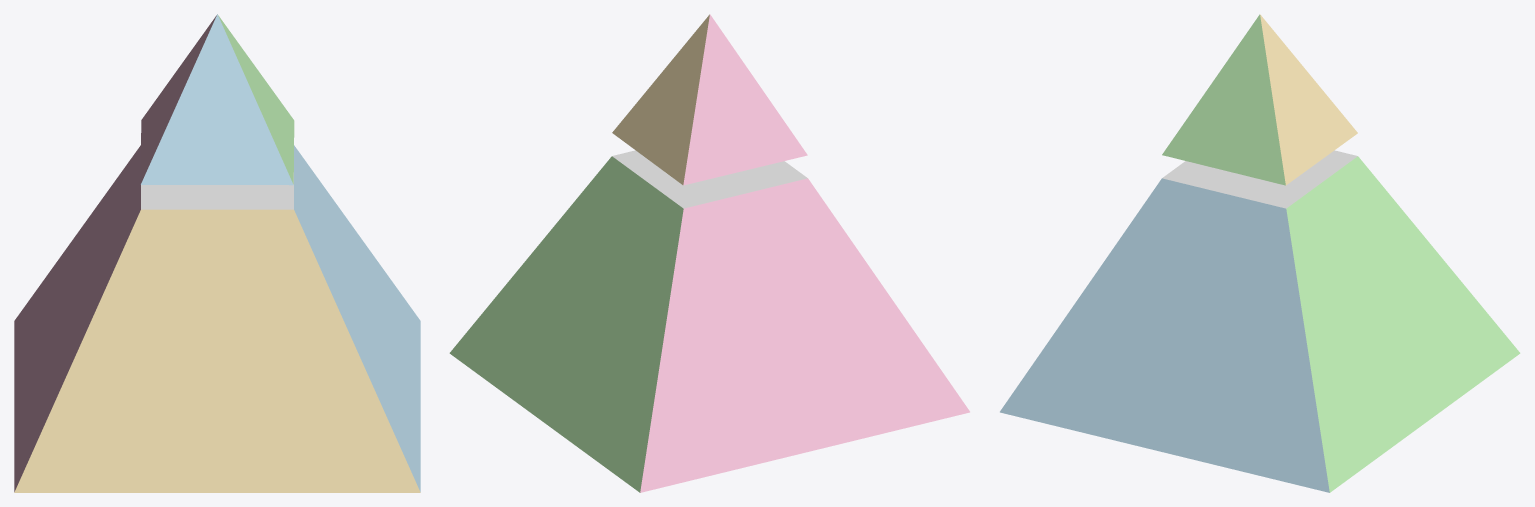
File: hola.glb
3 views of the same model, side by side, from view 1: azimuth 30°, elevation 25°; view 2: azimuth 150°, elevation 25°; view 3: azimuth 270°, elevation 25° (orthographic). The views are drawn at different scales.
Visible parts, largest first — view 1: Pyramid_bas_1, Pyramid_bas.1, Pyramid_bas.2, Pyramid_haut.4, Pyramid_top, Pyramid_haut.1, Pyramid_haut.3; view 2: Pyramid_bas.1, Pyramid_bas, Pyramid_haut.3, Pyramid_haut.2, Pyramid_top; view 3: Pyramid_bas.2, Pyramid_bas, Pyramid_haut.1, Pyramid_haut.2, Pyramid_top.
Part boxes in pixels (x1=…): Pyramid_bas_1: x1=14, y1=209, x2=420, y2=492; Pyramid_bas.1: x1=14, y1=145, x2=140, y2=491; Pyramid_bas.2: x1=294, y1=145, x2=420, y2=491; Pyramid_haut.4: x1=141, y1=14, x2=293, y2=185; Pyramid_top: x1=141, y1=172, x2=293, y2=209; Pyramid_haut.1: x1=218, y1=15, x2=294, y2=184; Pyramid_haut.3: x1=140, y1=15, x2=216, y2=184; Pyramid_bas.1: x1=640, y1=178, x2=969, y2=492; Pyramid_bas: x1=449, y1=156, x2=683, y2=492; Pyramid_haut.3: x1=683, y1=14, x2=807, y2=185; Pyramid_haut.2: x1=612, y1=14, x2=709, y2=184; Pyramid_top: x1=612, y1=150, x2=807, y2=208; Pyramid_bas.2: x1=1000, y1=178, x2=1329, y2=492; Pyramid_bas: x1=1286, y1=156, x2=1520, y2=492; Pyramid_haut.1: x1=1162, y1=14, x2=1285, y2=185; Pyramid_haut.2: x1=1260, y1=14, x2=1357, y2=185; Pyramid_top: x1=1162, y1=150, x2=1357, y2=208.
Bounding box in the file's own units: 40.98 × 32 × 40.98.
